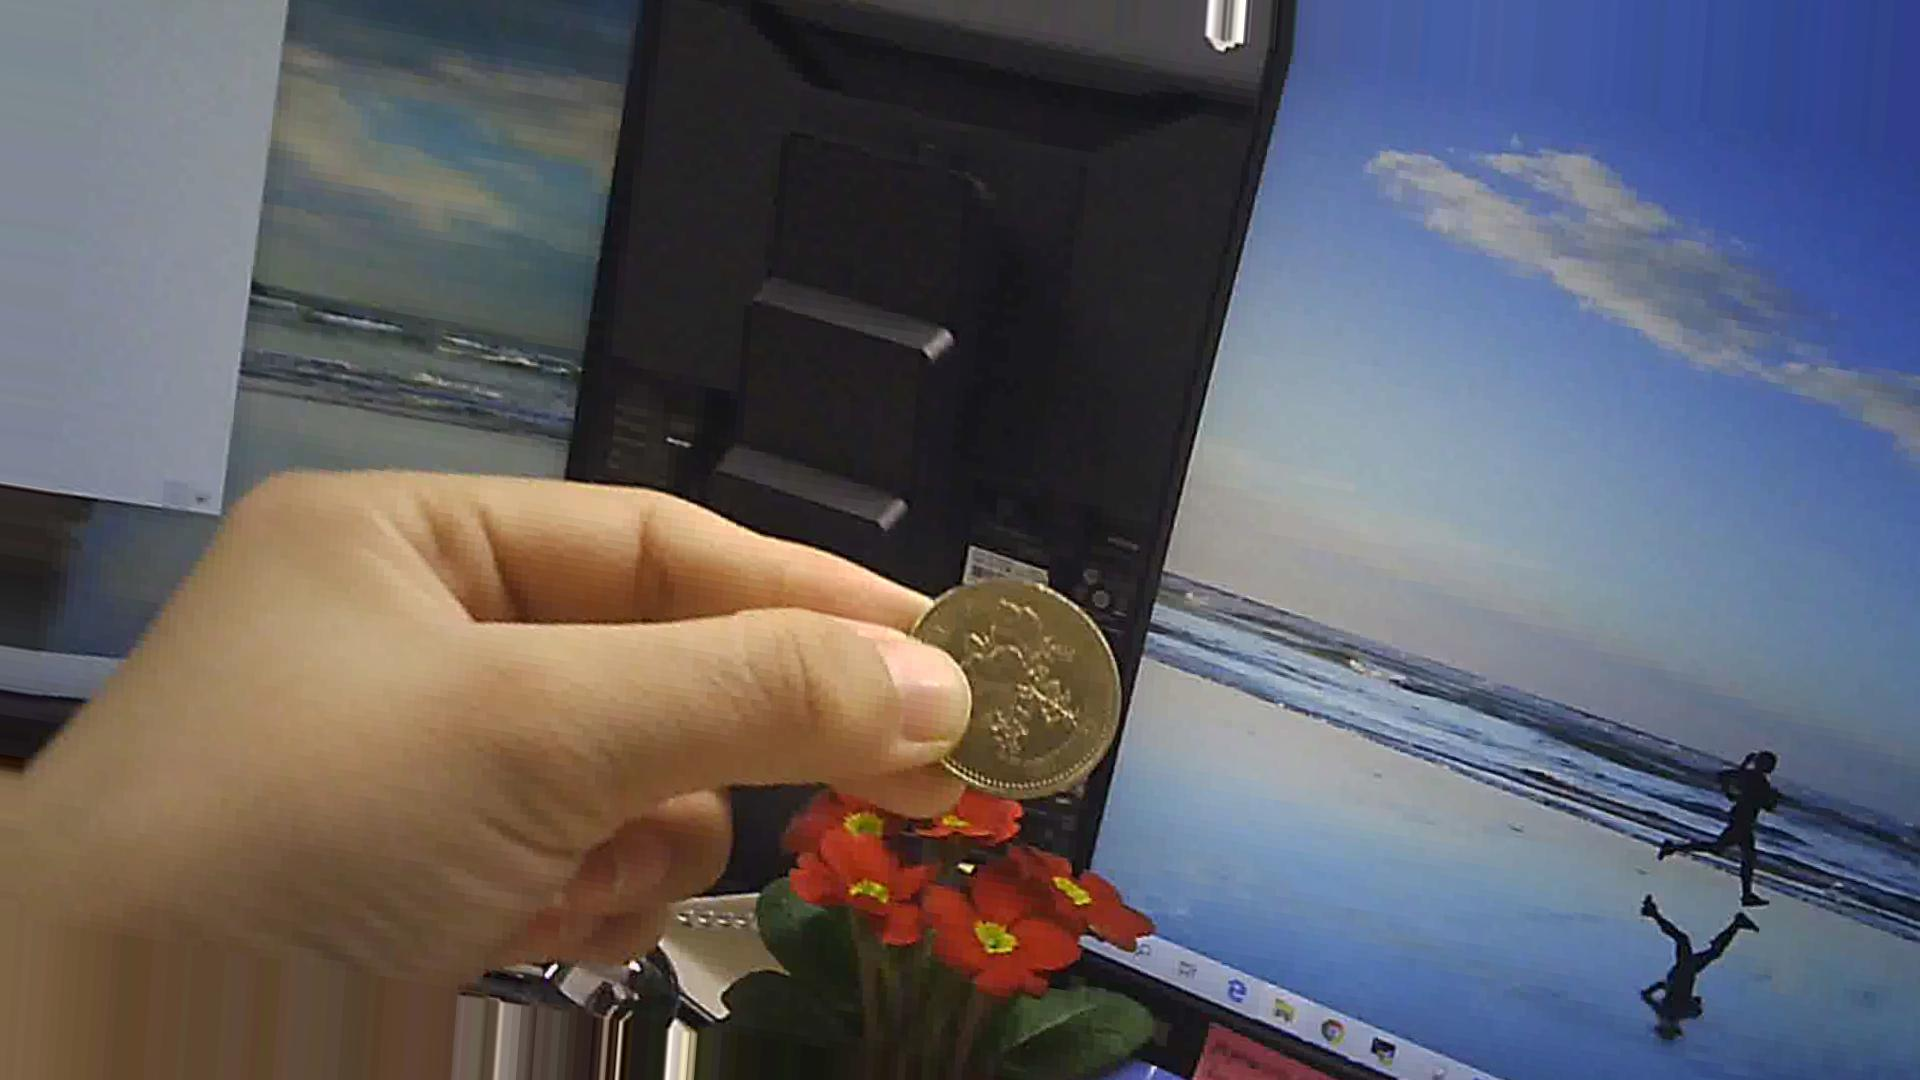500 Yen: (899, 568, 1139, 800)
